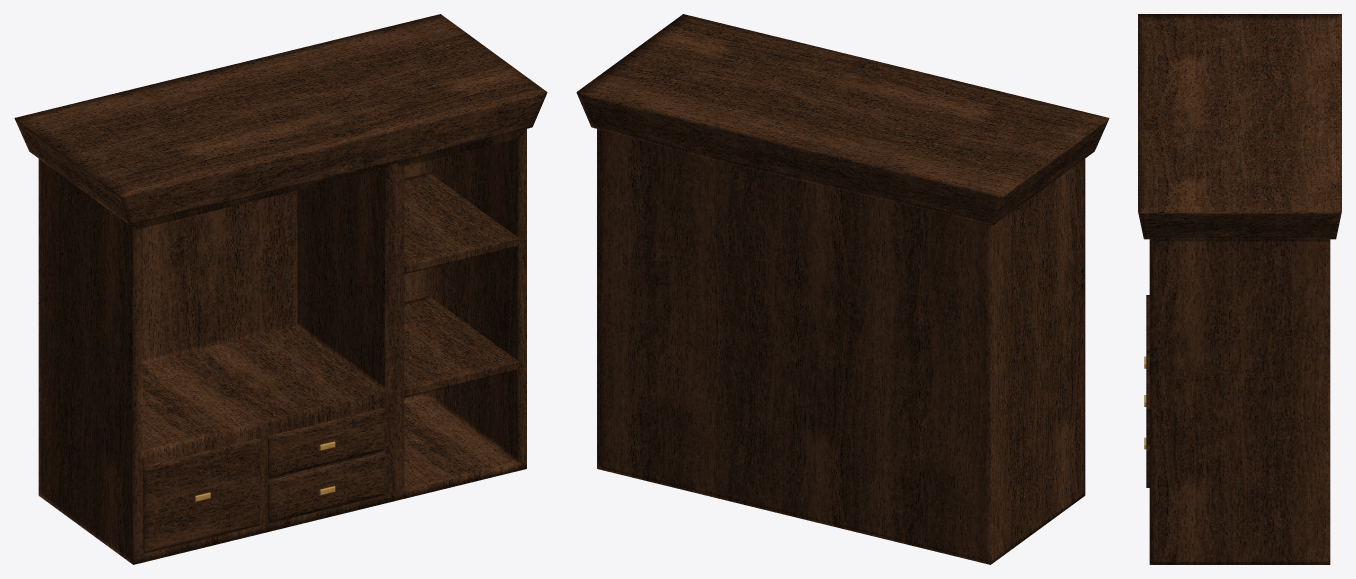
File: stand.001.fbx
3 renders of one model, left to right at view 1: azimuth 30°, elevation 25°; view 2: azimuth 150°, elevation 25°; view 3: azimuth 270°, elevation 25°, orthographic. The views are drawn at different scales.
Visible parts, largest first — view 1: Base, Drawer.001, Platform.002, Platform.001, Drawer.002, Drawer.003; view 2: Base; view 3: Base, Drawer.003.
Boxes of the visible parts, bbox=[...] form: Base: bbox=[14, 14, 547, 564]; Drawer.001: bbox=[143, 438, 259, 553]; Platform.002: bbox=[404, 172, 518, 274]; Platform.001: bbox=[404, 296, 518, 397]; Drawer.002: bbox=[268, 452, 384, 522]; Drawer.003: bbox=[268, 408, 384, 478]; Base: bbox=[576, 14, 1109, 564]; Base: bbox=[1138, 14, 1341, 564]; Drawer.003: bbox=[1146, 353, 1149, 445].
Size of the model in its own units: 130 by 110 by 56.47.
